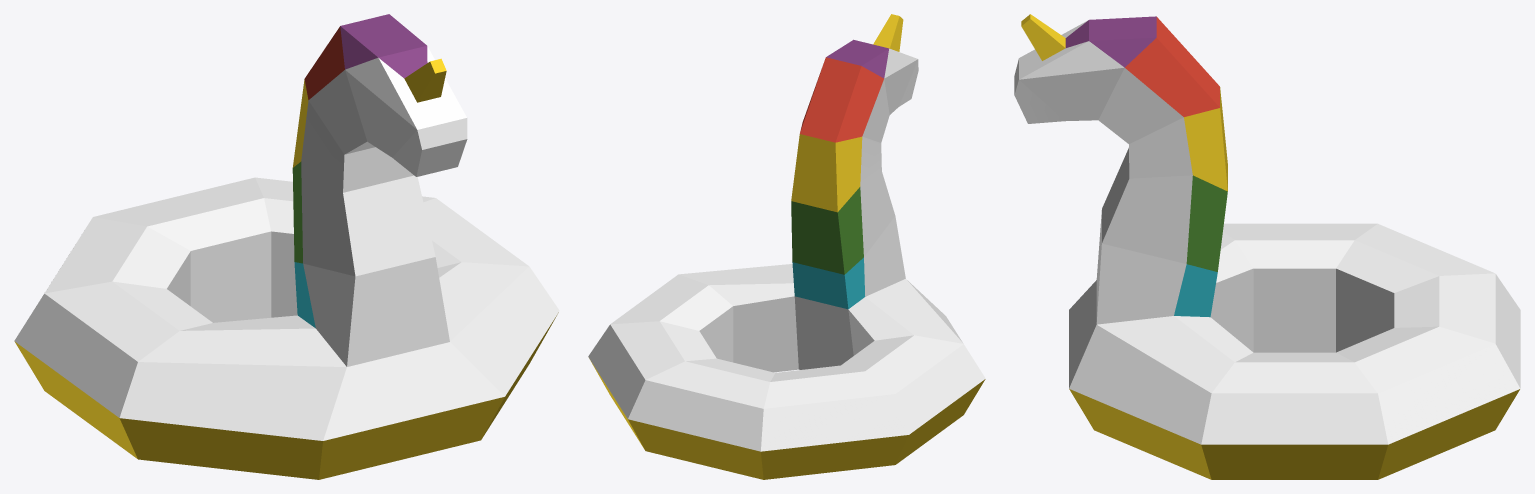
File: beach_inflatable-unicorn-small.fbx
3 renders of one model, left to right at view 1: azimuth 30°, elevation 25°; view 2: azimuth 150°, elevation 25°; view 3: azimuth 270°, elevation 25°, orthographic. The views are drawn at different scales.
Visible parts, largest first — view 1: beach_inflatable_unicorn_small; view 2: beach_inflatable_unicorn_small; view 3: beach_inflatable_unicorn_small.
Part boxes in pixels (left/top/right/bottom): beach_inflatable_unicorn_small: left=14, top=14, right=559, bottom=479; beach_inflatable_unicorn_small: left=588, top=14, right=985, bottom=479; beach_inflatable_unicorn_small: left=1014, top=14, right=1520, bottom=479.
Size of the model in its own units: 178 by 171 by 200.
